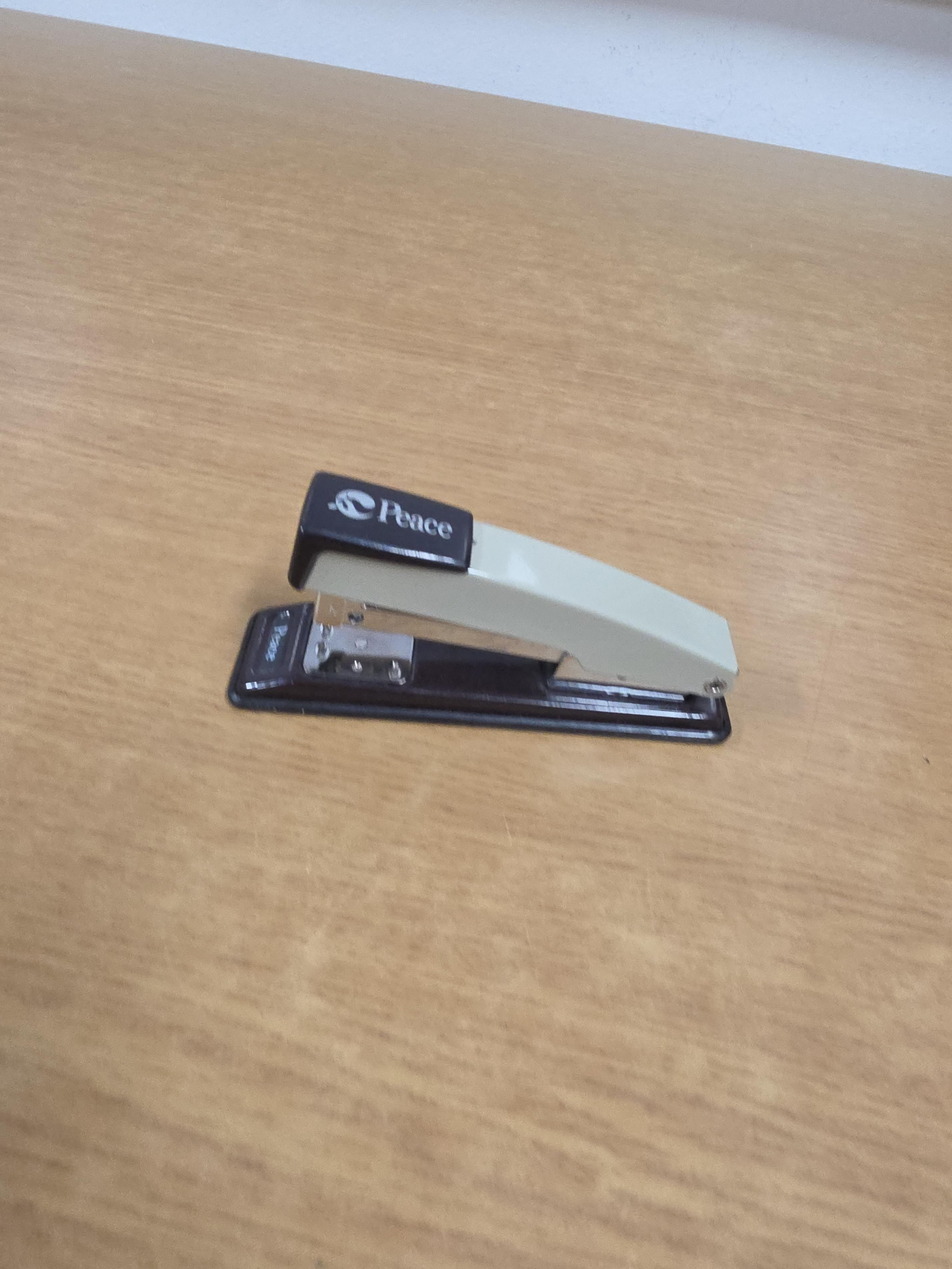stapler: (226, 470, 739, 744)
